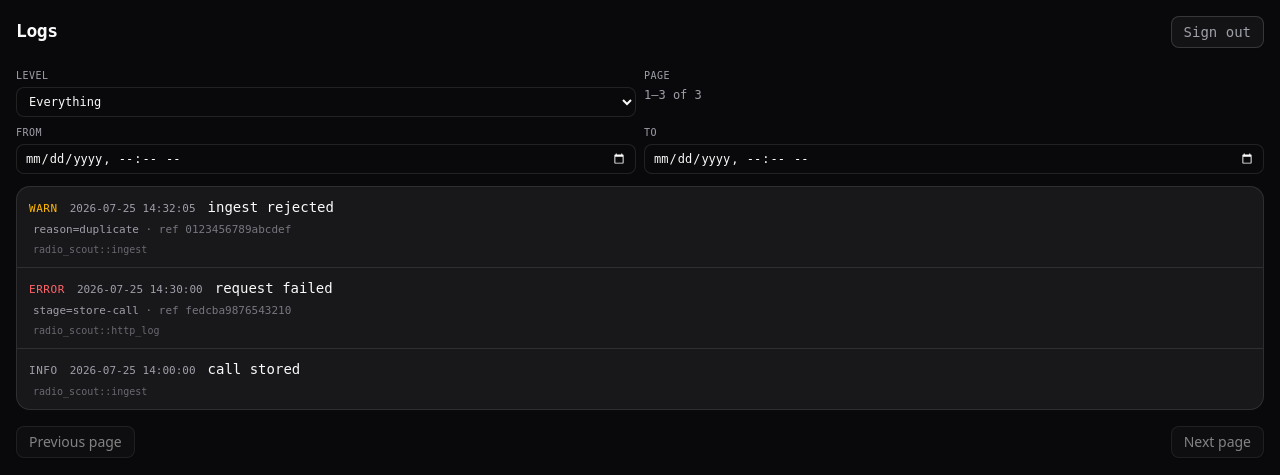
Scenario: the admin gate (#19, #30) › signs out again
Click the button "Sign out" at (1217, 32), box [1171, 16, 1264, 48]
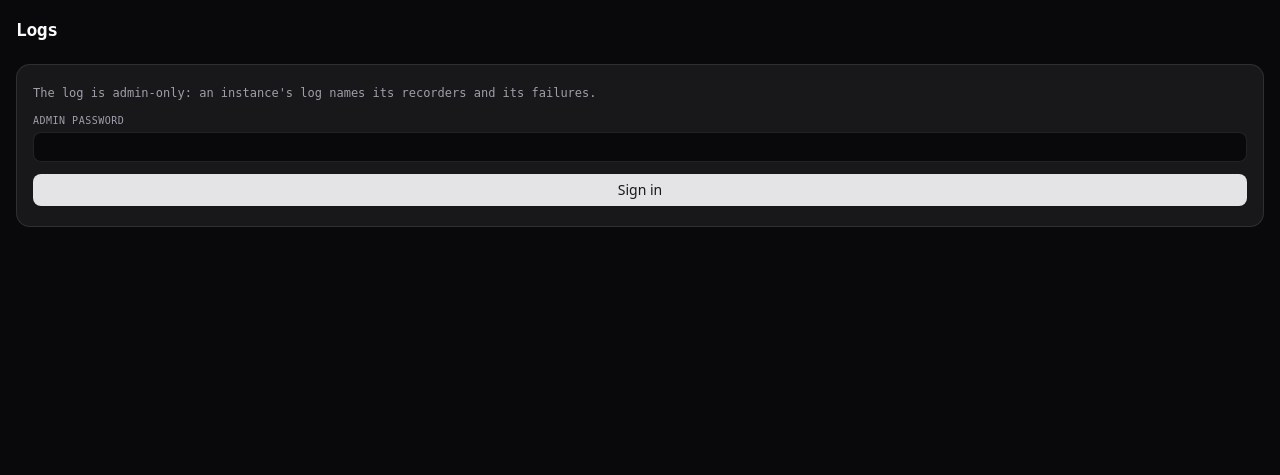
Result: the password field labelled "Admin password" is shown at [33, 132, 1247, 162]
